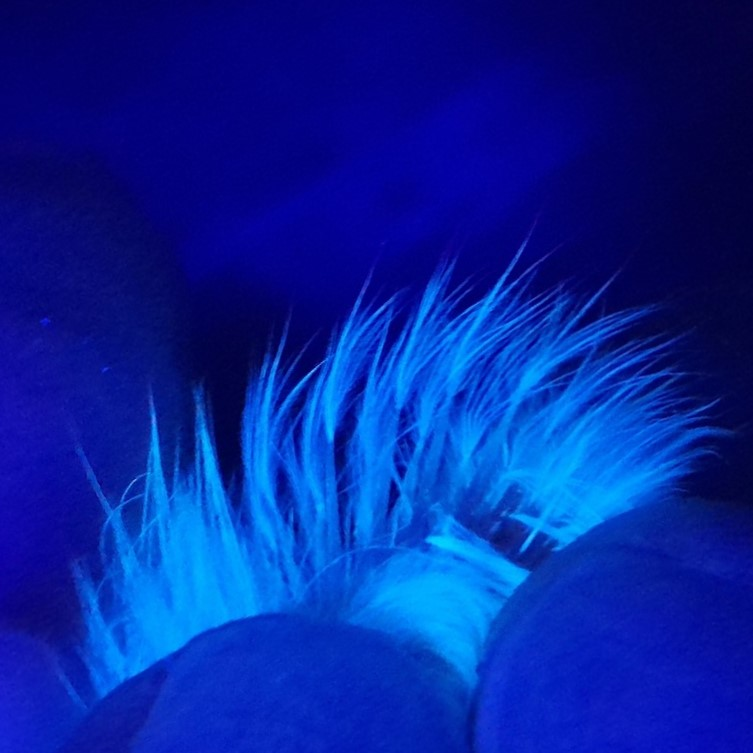male: (242, 347, 597, 635)
